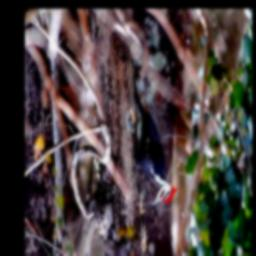Woodpecker: (132, 78, 180, 208)
